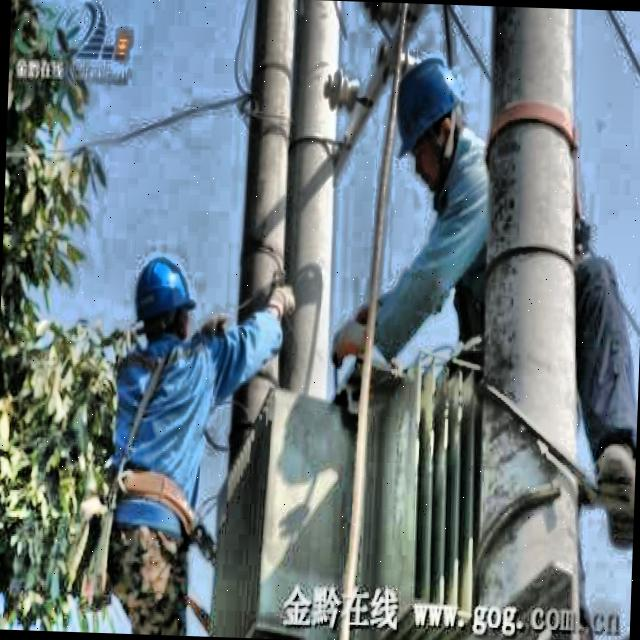helmet: (392, 41, 468, 183), (129, 248, 198, 350)
